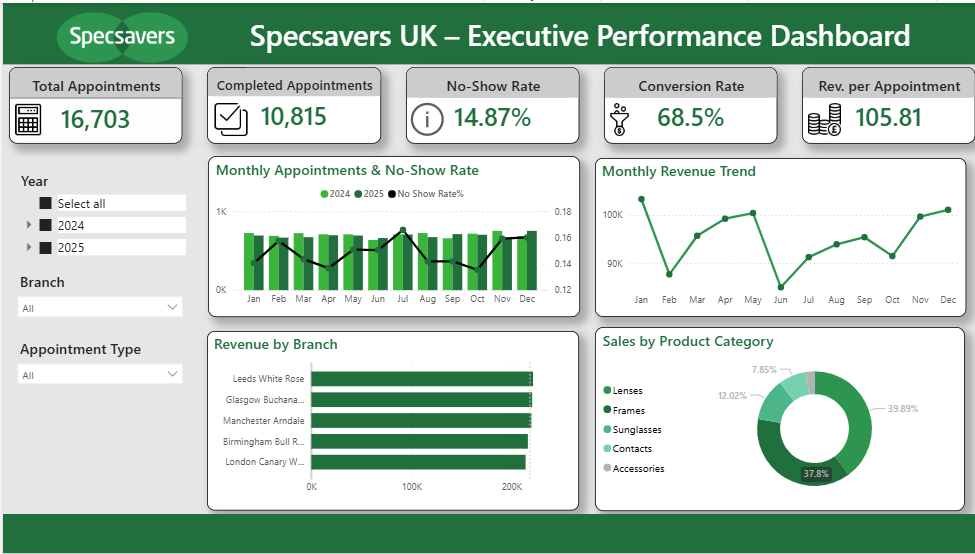

The page's visual inventory and layout, read from the dashboard file:
{"tool":"powerbi","page":{"name":"Page 1","canvas":[1280,720],"ordinal":0},"visuals":[{"type":"textbox","box":[0,0,1280,80],"z":0},{"type":"card","title":"Total Appointments","fields":{"Values":["Measures (2).Total Appointments Measure"]},"box":[8.3,83.8,226,100],"z":0,"group":"g3"},{"type":"card","title":"Completed Appointments","fields":{"Values":["Measures (2).Complete Appointements"]},"box":[266.4,83.8,226.7,100.4],"z":0,"group":"g2"},{"type":"card","title":"No-Show Rate","fields":{"Values":["Measures (2).No Show Rate%"]},"box":[525.2,83.8,226,100],"z":0,"group":"g1"},{"type":"card","title":"Conversion Rate","fields":{"Values":["Measures (2).Conversion Rate"]},"box":[783.4,83.8,226,100],"z":0,"group":"g4"},{"type":"card","title":"Rev. per Appointment","fields":{"Values":["Measures (2).Revenue per Appointment"]},"box":[1041.5,83.8,226,100],"z":0,"group":"g5"},{"type":"slicer","fields":{"Values":["appointments.appointment_type"]},"box":[9.1,432.6,234.6,112.3],"z":0,"group":"g6"},{"type":"textbox","box":[316.5,10.6,963,89.3],"z":1000},{"type":"actionButton","box":[525.5,120.4,55.5,63.8],"z":1000,"group":"g1"},{"type":"image","box":[8.3,126.3,49.6,50.8],"z":1000,"group":"g3"},{"type":"image","box":[274,126.3,47.2,50.8],"z":1000,"group":"g2"},{"type":"image","box":[782.9,126.3,42.5,50.8],"z":1000,"group":"g4"},{"type":"image","box":[1049.8,126.3,42.5,50.8],"z":1000,"group":"g5"},{"type":"slicer","fields":{"Values":["branches.branch_name"]},"box":[9.1,345.9,234.6,87.6],"z":1000,"group":"g6"},{"type":"image","box":[0,0,310.6,88.6],"z":2000},{"type":"group","id":"g1","title":"Group 3","box":[266.4,83.8,484.8,100.4],"z":2000,"group":"g4"},{"type":"group","id":"g2","title":"Group 2","box":[266.4,83.8,226.7,100.4],"z":2000,"group":"g1"},{"type":"slicer","fields":{"Values":["appointments.appointment_date.Variation.Date Hierarchy.Year","appointments.appointment_date.Variation.Date Hierarchy.Quarter","appointments.appointment_date.Variation.Date Hierarchy.Month","appointments.appointment_date.Variation.Date Hierarchy.Day"]},"box":[10.6,213.8,233.1,132.1],"z":2000,"group":"g6"},{"type":"lineClusteredColumnComboChart","title":"Monthly Appointments & No‑Show Rate","fields":{"Y":["Measures (2).Total Appointments"],"Y2":["Measures (2).No Show Rate%"],"Series":["appointments.appointment_date.Variation.Date Hierarchy.Year"],"Category":["appointments.Month Name"]},"box":[267.2,199.4,484.9,209.9],"z":3000},{"type":"lineChart","title":"Monthly Revenue Trend","fields":{"Y":["Measures (2).Total Revenue"],"Category":["appointments.Month Name"]},"box":[771.7,202.1,483.8,206.7],"z":4000},{"type":"group","id":"g3","title":"Group 1","box":[8.3,83.8,226,100],"z":5000},{"type":"group","id":"g4","title":"Group 4","box":[266.4,83.8,743,100.4],"z":6000},{"type":"group","id":"g5","title":"Group 5","box":[1041.5,83.8,226,100],"z":7000},{"type":"clusteredBarChart","title":"Revenue by Branch","fields":{"Category":["branches.branch_name"],"Y":["Measures (2).Revenue After Discount"]},"box":[266.4,427.2,485.4,234.3],"z":8000},{"type":"donutChart","title":"Sales by Product Category","fields":{"Category":["sales.category"],"Y":["Measures (2).Revenue After Discount"]},"box":[771.6,422.3,482.3,239.8],"z":9000},{"type":"textbox","box":[0,666,1280,50.5],"z":10000},{"type":"group","id":"g6","title":"Group 6","box":[9.1,213.8,234.6,331.1],"z":11000}]}

Visuals, with their boxes in screenshot pixels (x1, y1, x2, y2), scaled from the page's 1280x720 canvas onto the 975x554 screenshot:
textbox: 0, 0, 974, 62
"Total Appointments" card: 6, 64, 178, 141
"Completed Appointments" card: 203, 64, 376, 142
"No-Show Rate" card: 400, 64, 572, 141
"Conversion Rate" card: 597, 64, 769, 141
"Rev. per Appointment" card: 793, 64, 965, 141
slicer - appointments.appointment_type: 7, 333, 186, 419
textbox: 241, 8, 974, 77
actionButton: 400, 93, 443, 142
image: 6, 97, 44, 136
image: 209, 97, 245, 136
image: 596, 97, 629, 136
image: 800, 97, 832, 136
slicer - branches.branch_name: 7, 266, 186, 334
image: 0, 0, 237, 68
"Group 3" group: 203, 64, 572, 142
"Group 2" group: 203, 64, 376, 142
slicer - appointments.appointment_date.Variation.Date Hierarchy.Year x appointments.appointment_date.Variation.Date Hierarchy.Quarter: 8, 165, 186, 266
"Monthly Appointments & No‑Show Rate" lineClusteredColumnComboChart: 204, 153, 573, 315
"Monthly Revenue Trend" lineChart: 588, 156, 956, 315
"Group 1" group: 6, 64, 178, 141
"Group 4" group: 203, 64, 769, 142
"Group 5" group: 793, 64, 965, 141
"Revenue by Branch" clusteredBarChart: 203, 329, 573, 509
"Sales by Product Category" donutChart: 588, 325, 955, 509
textbox: 0, 512, 974, 551
"Group 6" group: 7, 165, 186, 419
